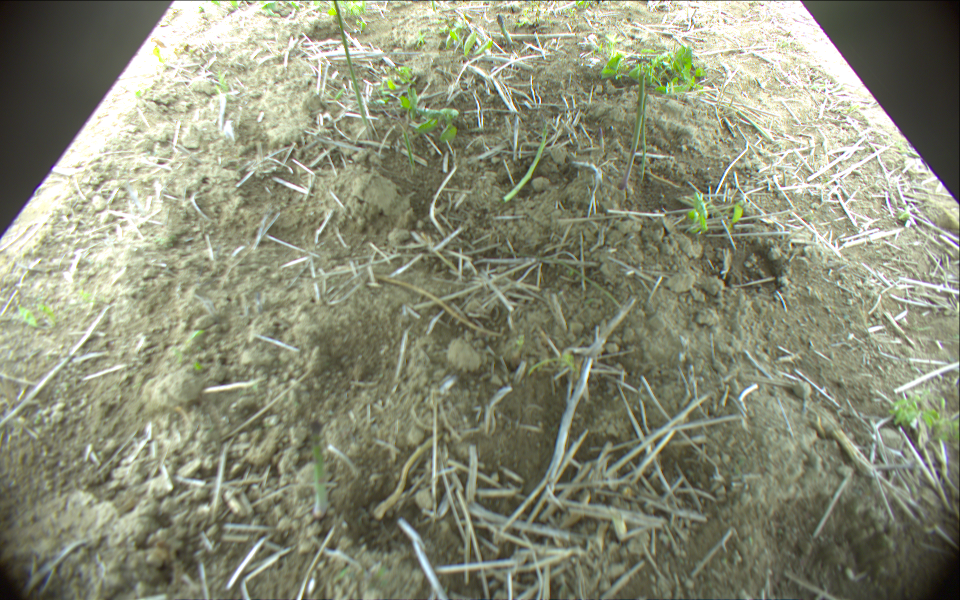aspa: (330, 1, 373, 137), (500, 121, 551, 203), (622, 71, 644, 184), (636, 87, 654, 180), (312, 422, 326, 518), (400, 125, 416, 174), (495, 16, 513, 49)
